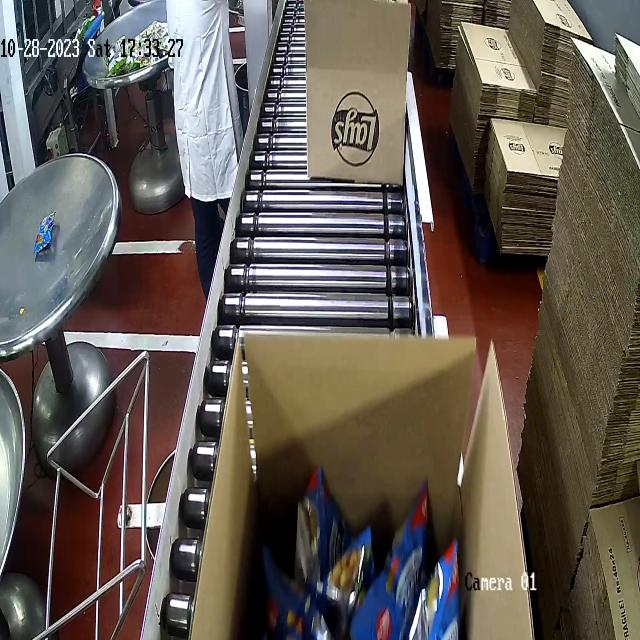PAPRIKA: (258, 473, 452, 640)
